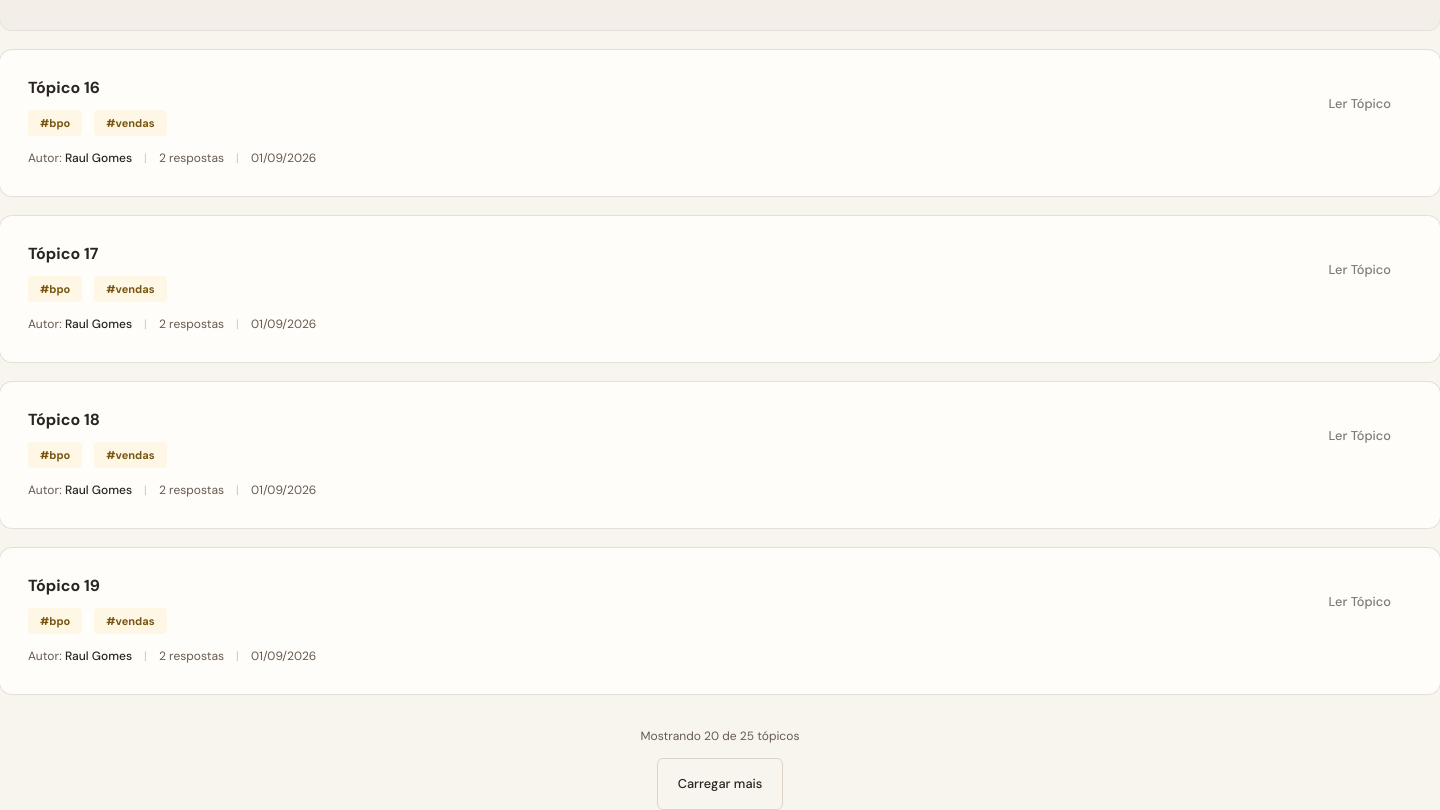
Test: NetworkPage - paginacao do forum › carrega a pagina seguinte e mostra quantos faltam
(page scrolled)
expect the text "Mostrando 20 de 25 tópicos" is shown: met, box [640,726,799,746]
Click the button "Carregar mais". click: (720, 784)
box: [657,758,783,809]
(page scrolled)
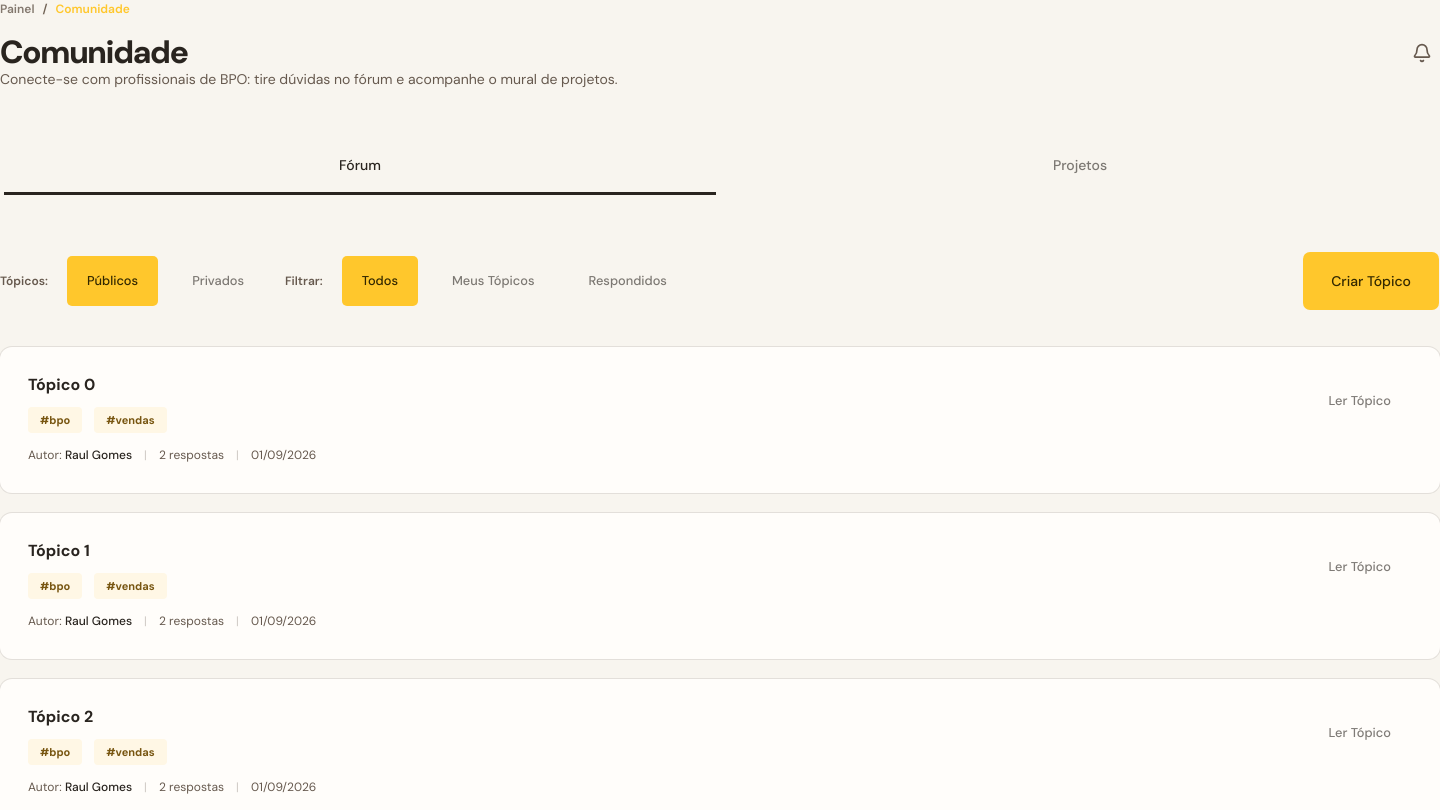
expect the text "Tópico 0" is shown: met, box [28,374,95,395]
expect the button "Carregar mais" is gone: met
